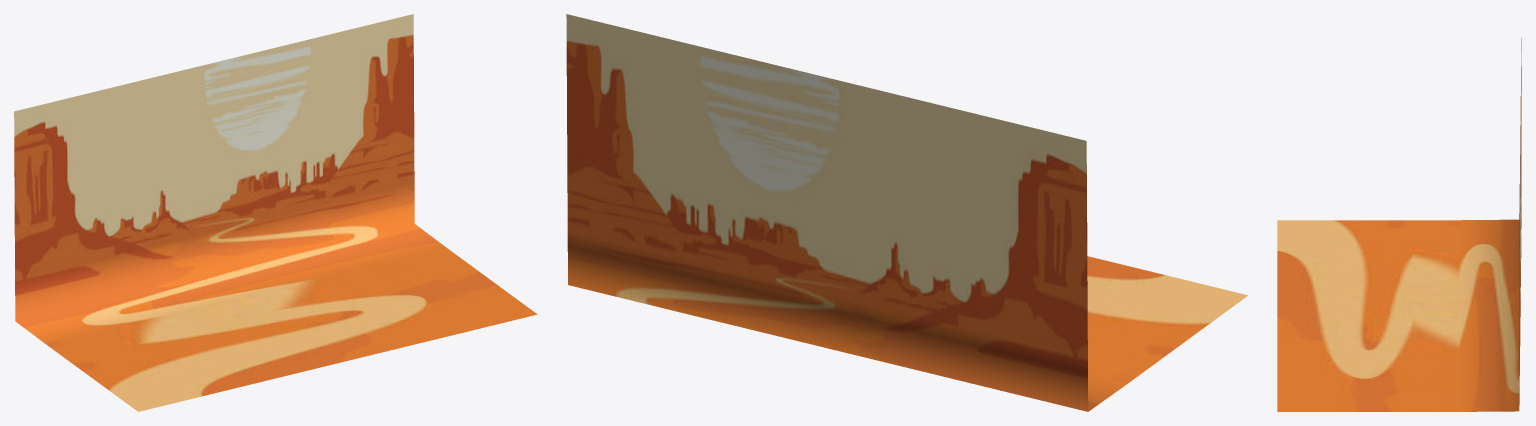
File: TestBg.fbx
3 views of the same model, side by side, from view 1: azimuth 30°, elevation 25°; view 2: azimuth 150°, elevation 25°; view 3: azimuth 270°, elevation 25° (orthographic). The views are drawn at different scales.
Visible parts, largest first — view 1: pPlane1; view 2: pPlane1; view 3: pPlane1.
Boxes of the visible parts, x1,y1,x2,y2 form: pPlane1: (14, 14, 537, 411); pPlane1: (566, 14, 1247, 411); pPlane1: (1277, 37, 1521, 411).
Bounding box in the file's own units: 51.33 × 25.73 × 27.65.
1 material, 1 textured.
